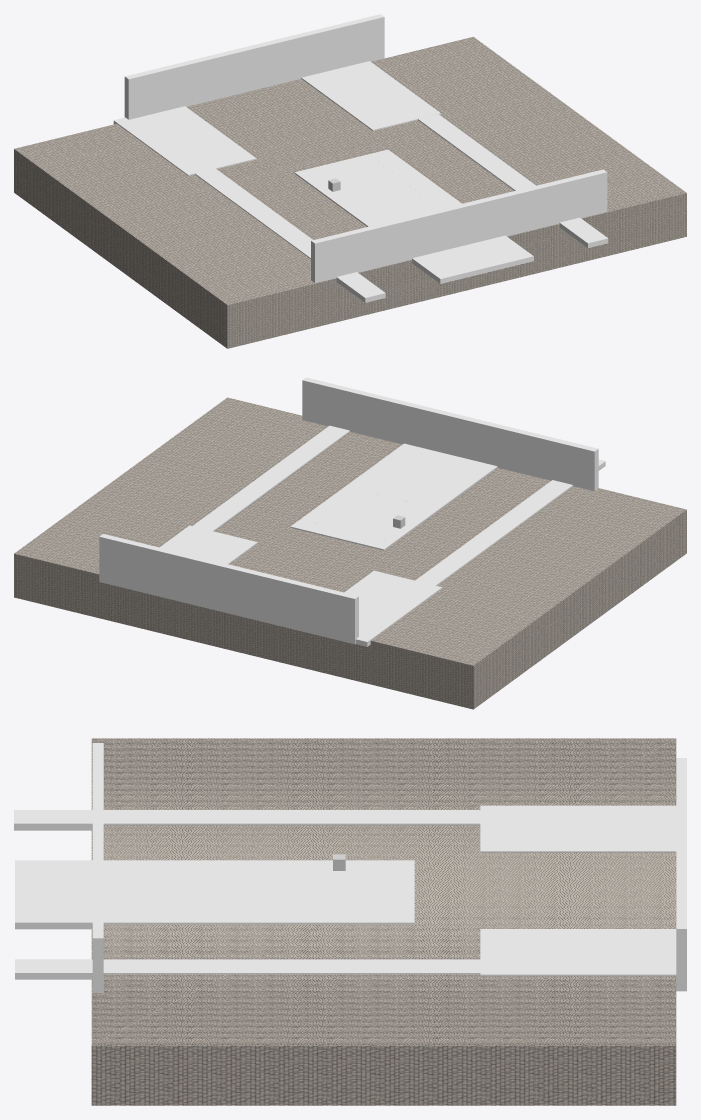
File: Level0.glb
The picture shows the model from 3 angles, top to bottom: view 1: azimuth 30°, elevation 25°; view 2: azimuth 150°, elevation 25°; view 3: azimuth 270°, elevation 25°; orthographic projection. The views are drawn at different scales.
Visible parts, largest first — view 1: CSGBox3D32, CSGBox3D72, CSGBox3D62, CSGBox3D172, CSGBox3D122, CSGBox3D102, CSGBox3D152, CSGBox3D162, CSGBox3D142, CSGBox3D182, CSGBox3D192, CSGBox3D132; view 2: CSGBox3D32, CSGBox3D72, CSGBox3D62, CSGBox3D172, CSGBox3D102, CSGBox3D162, CSGBox3D152, CSGBox3D142, CSGBox3D122, CSGBox3D182, CSGBox3D192, CSGBox3D132; view 3: CSGBox3D32, CSGBox3D172, CSGBox3D102, CSGBox3D122, CSGBox3D152, CSGBox3D162, CSGBox3D142, CSGBox3D72, CSGBox3D62, CSGBox3D182, CSGBox3D192, CSGBox3D132.
Boxes of the visible parts, x1,y1,x2,y2 form: CSGBox3D32: (14,37,686,348); CSGBox3D72: (311,169,607,283); CSGBox3D62: (124,14,384,119); CSGBox3D172: (349,189,533,283); CSGBox3D122: (301,61,440,130); CSGBox3D102: (113,106,256,175); CSGBox3D152: (184,159,385,302); CSGBox3D162: (294,149,421,213); CSGBox3D142: (452,139,608,247); CSGBox3D182: (378,156,442,194); CSGBox3D192: (304,174,369,212); CSGBox3D132: (418,114,471,144); CSGBox3D32: (14,397,686,709); CSGBox3D72: (302,377,598,491); CSGBox3D62: (99,534,358,644); CSGBox3D172: (346,443,497,509); CSGBox3D102: (344,570,442,646); CSGBox3D162: (290,491,438,550); CSGBox3D152: (403,459,605,594); CSGBox3D142: (226,425,349,507); CSGBox3D122: (159,525,257,564); CSGBox3D182: (300,486,365,524); CSGBox3D192: (373,504,438,541); CSGBox3D132: (192,501,246,531); CSGBox3D32: (91,738,676,1105); CSGBox3D172: (15,860,264,929); CSGBox3D102: (480,805,676,852); CSGBox3D122: (480,929,676,975); CSGBox3D152: (14,810,513,830); CSGBox3D162: (264,860,414,924); CSGBox3D142: (15,959,387,979); CSGBox3D72: (92,743,103,992); CSGBox3D62: (676,758,686,991); CSGBox3D182: (264,909,387,922); CSGBox3D192: (264,860,387,873); CSGBox3D132: (387,959,480,974).
Size of the model in its own units: 67.34 by 11.95 by 62.34.
Materials: 4 (1 with a texture image).
